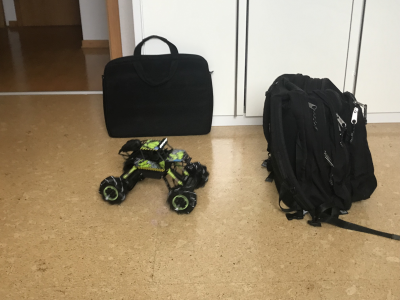remote control car: (97, 134, 211, 215)
